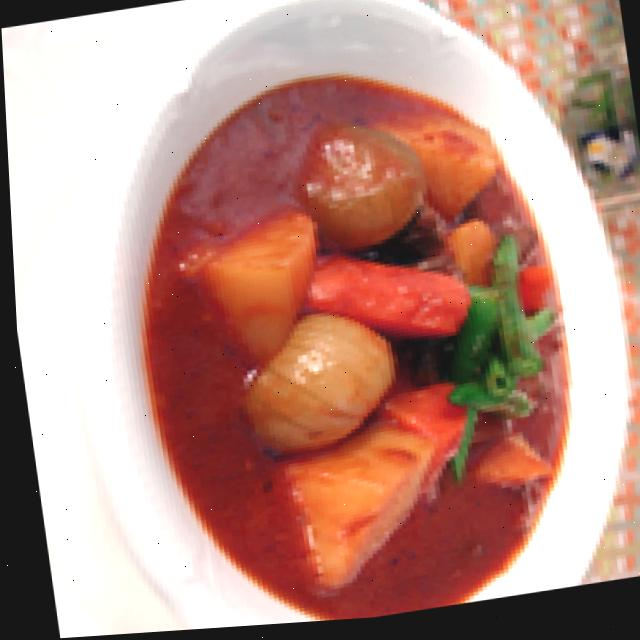汤锅炖物: (39, 0, 640, 638)
